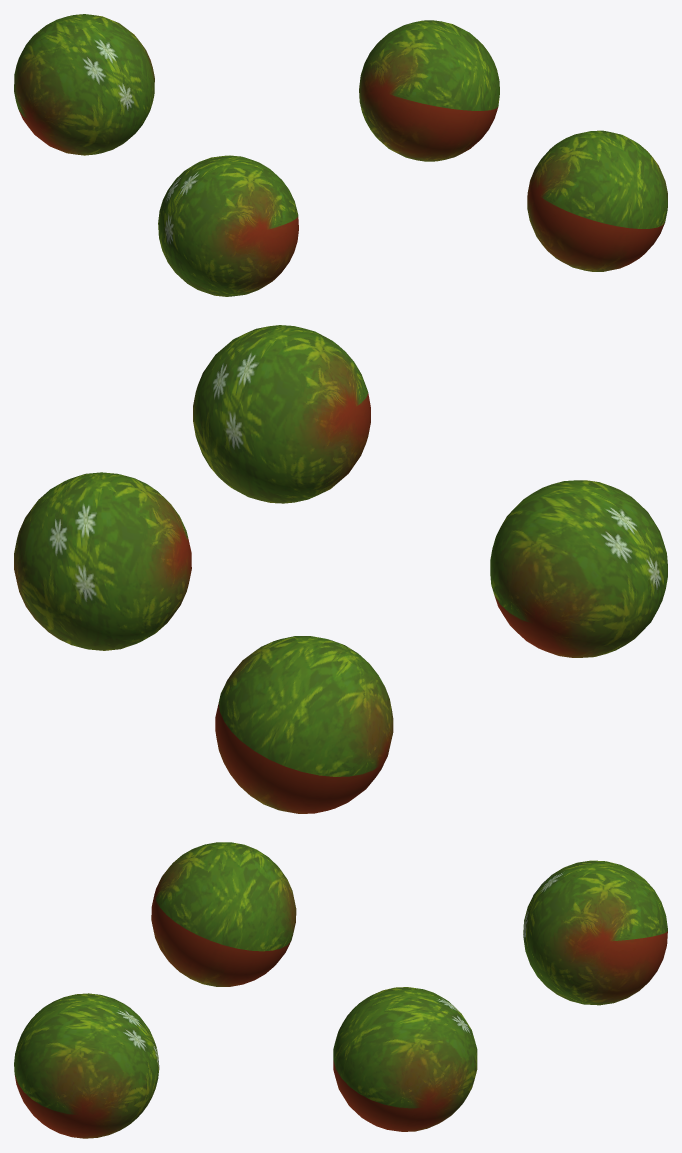
The model's file is FirGrassSeeds.fbx.
3 views of the same model, one above another, from view 1: azimuth 30°, elevation 25°; view 2: azimuth 150°, elevation 25°; view 3: azimuth 270°, elevation 25° (orthographic). The views are drawn at different scales.
Visible parts, largest first — view 1: Sphere (1), Sphere, Sphere (2), Sphere (3); view 2: Sphere (2), Sphere (3), Sphere, Sphere (1); view 3: Sphere (3), Sphere (2), Sphere (1), Sphere.
Part boxes in pixels (x1,y1,x2,y2): Sphere (1): (359, 20, 499, 161); Sphere: (158, 155, 298, 296); Sphere (2): (14, 14, 154, 155); Sphere (3): (527, 130, 667, 271); Sphere (2): (215, 636, 393, 813); Sphere (3): (193, 325, 370, 503); Sphere: (490, 480, 667, 657); Sphere (1): (14, 472, 191, 650); Sphere (3): (14, 993, 159, 1138); Sphere (2): (523, 860, 667, 1005); Sphere (1): (333, 987, 477, 1131); Sphere: (151, 842, 296, 986).
Bounding box in the file's own units: 0.5184 × 0.1491 × 0.6732.
1 material, 1 textured.
